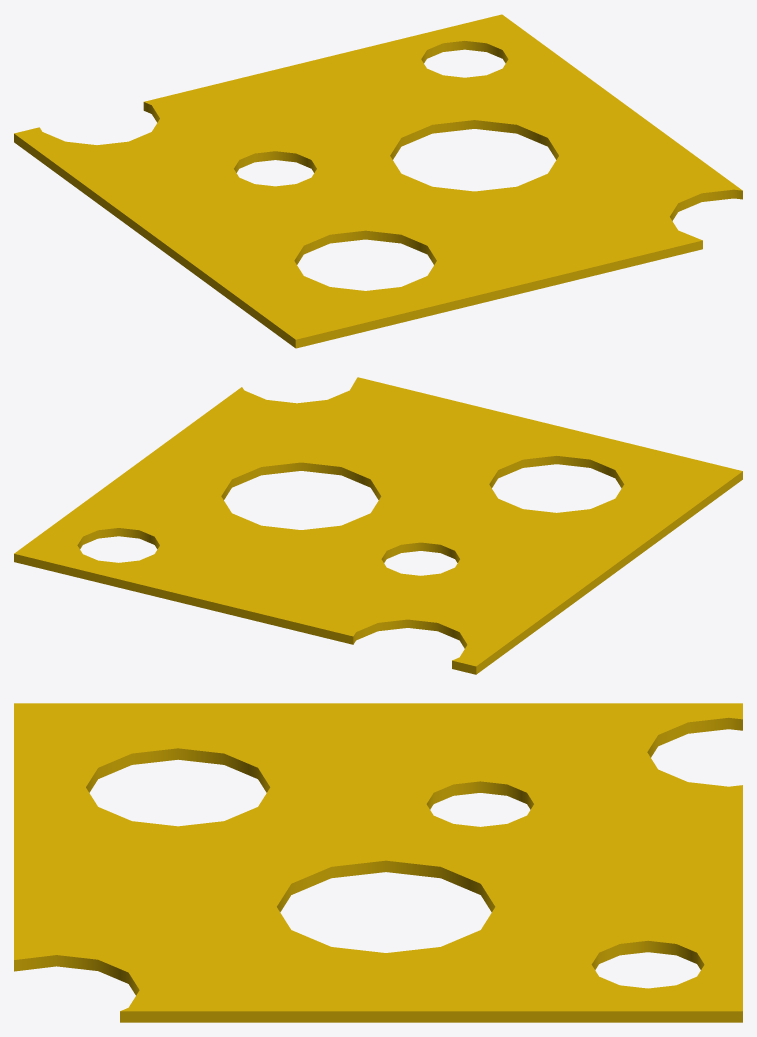
Rendered from SM_Cheese.fbx.
3 renders of one model, top to bottom at view 1: azimuth 30°, elevation 25°; view 2: azimuth 150°, elevation 25°; view 3: azimuth 270°, elevation 25°, orthographic. The views are drawn at different scales.
Visible parts, largest first — view 1: Cheese; view 2: Cheese; view 3: Cheese.
Boxes of the visible parts, x1,y1,x2,y2 form: Cheese: (14, 14, 742, 348); Cheese: (14, 377, 742, 674); Cheese: (14, 703, 742, 1022).
Bounding box in the file's own units: 200 × 3.46 × 200.
